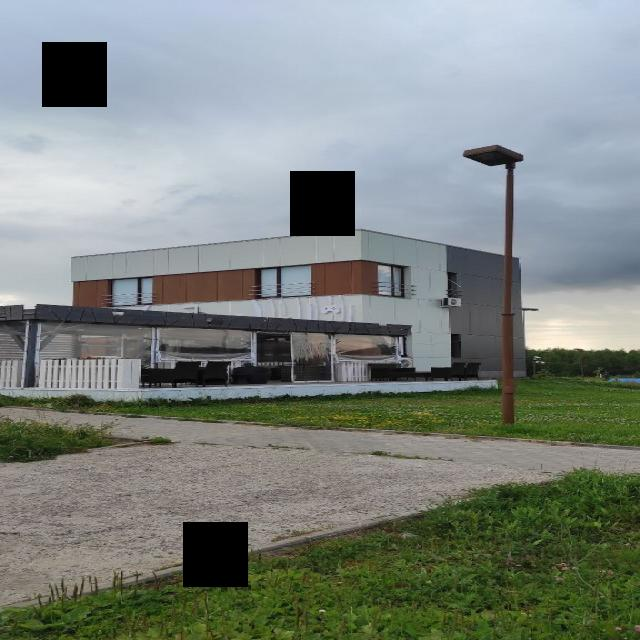Building: (0, 228, 528, 393)
